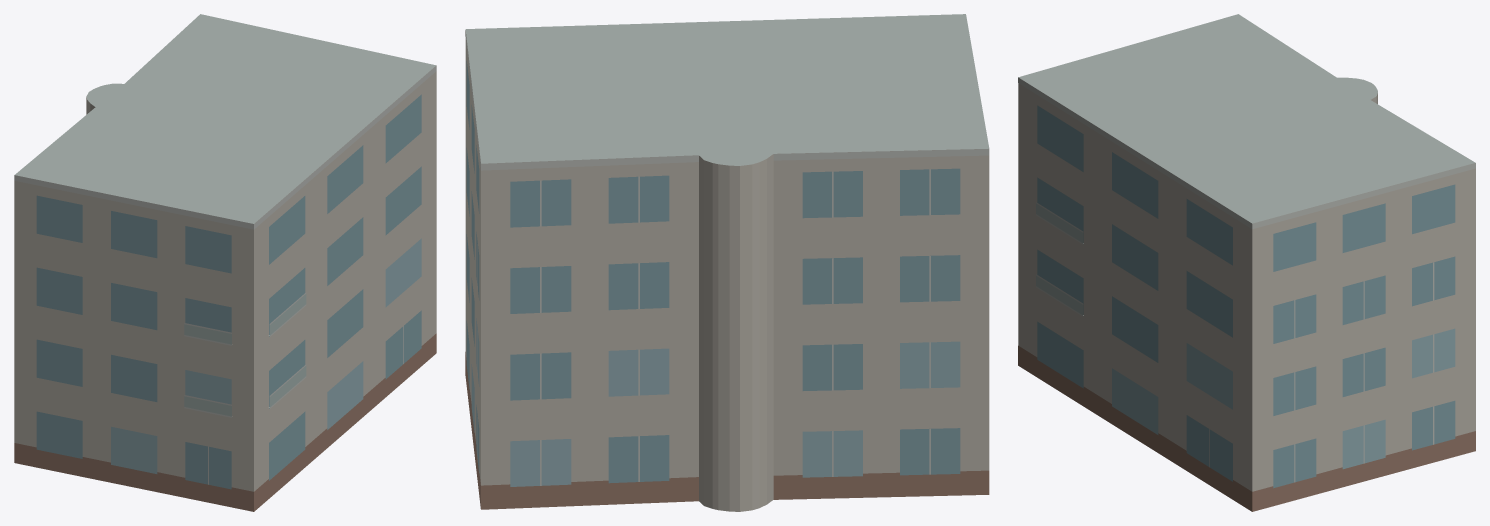
File: survey-upis-32853488.glb
The picture shows the model from 3 angles, left to right: view 1: azimuth 30°, elevation 25°; view 2: azimuth 150°, elevation 25°; view 3: azimuth 270°, elevation 25°; orthographic projection. The views are drawn at different scales.
Visible parts, largest first — view 1: survey-upis-32853488.tmp; view 2: survey-upis-32853488.tmp; view 3: survey-upis-32853488.tmp.
Boxes of the visible parts, x1=… form: survey-upis-32853488.tmp: x1=14, y1=14, x2=436, y2=511; survey-upis-32853488.tmp: x1=465, y1=14, x2=989, y2=511; survey-upis-32853488.tmp: x1=1018, y1=14, x2=1475, y2=511.
Bounding box in the file's own units: 19.35 × 12.4 × 17.85.
